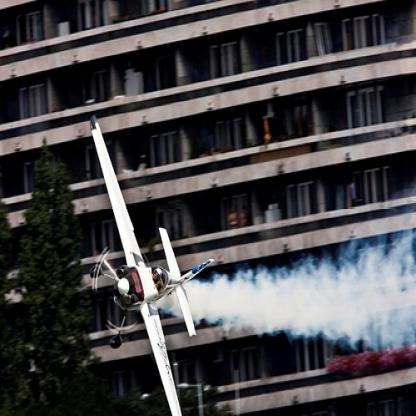aeroplane: (90, 116, 214, 415)
